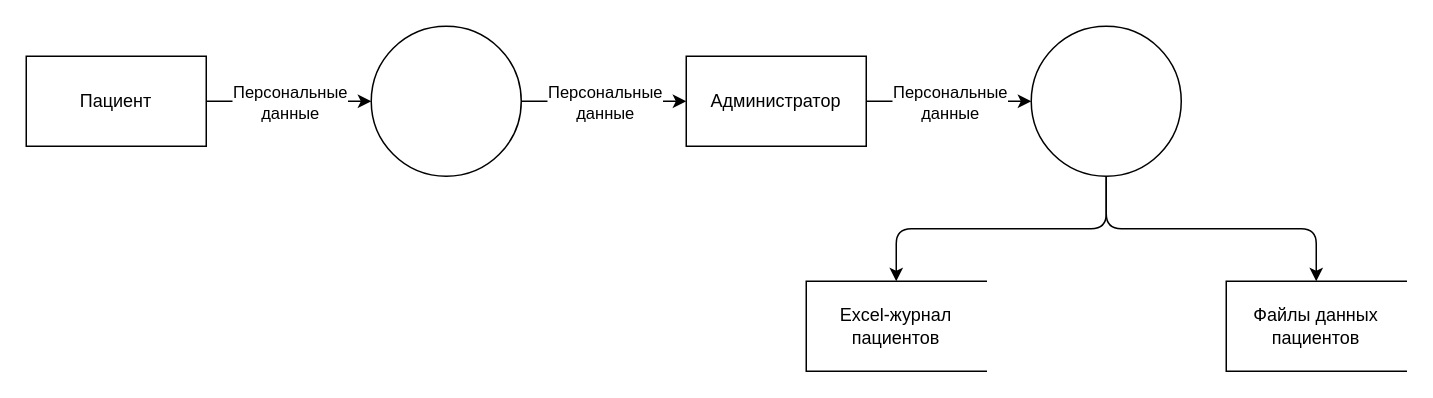
Image size: 1433x398. Some labels were removed from this diagram. Here are the shapes that lost their labels. From the top down, the centre of each, then its label:
At (445,100): "Регистрация".
At (1105,100): "Сохранение данных".
